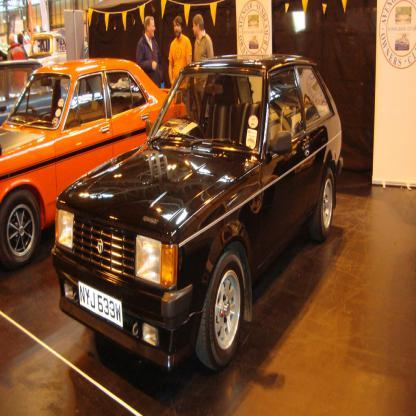car: (49, 51, 343, 376), (0, 57, 187, 260)
